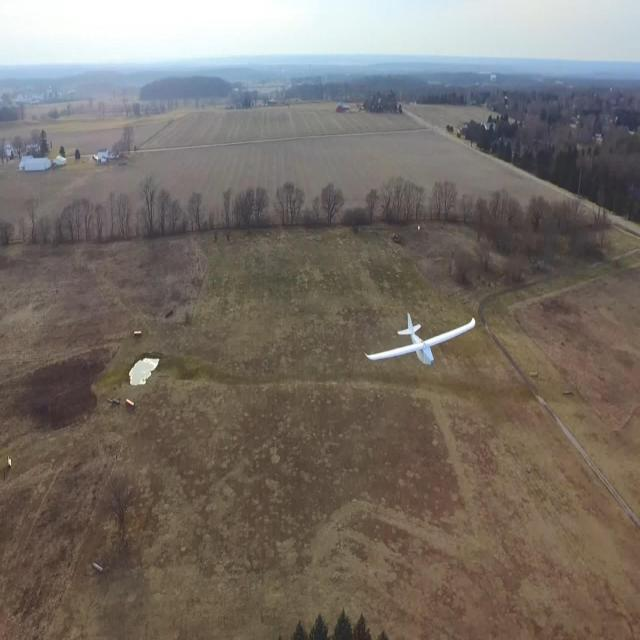UAV: (348, 318, 489, 391)
